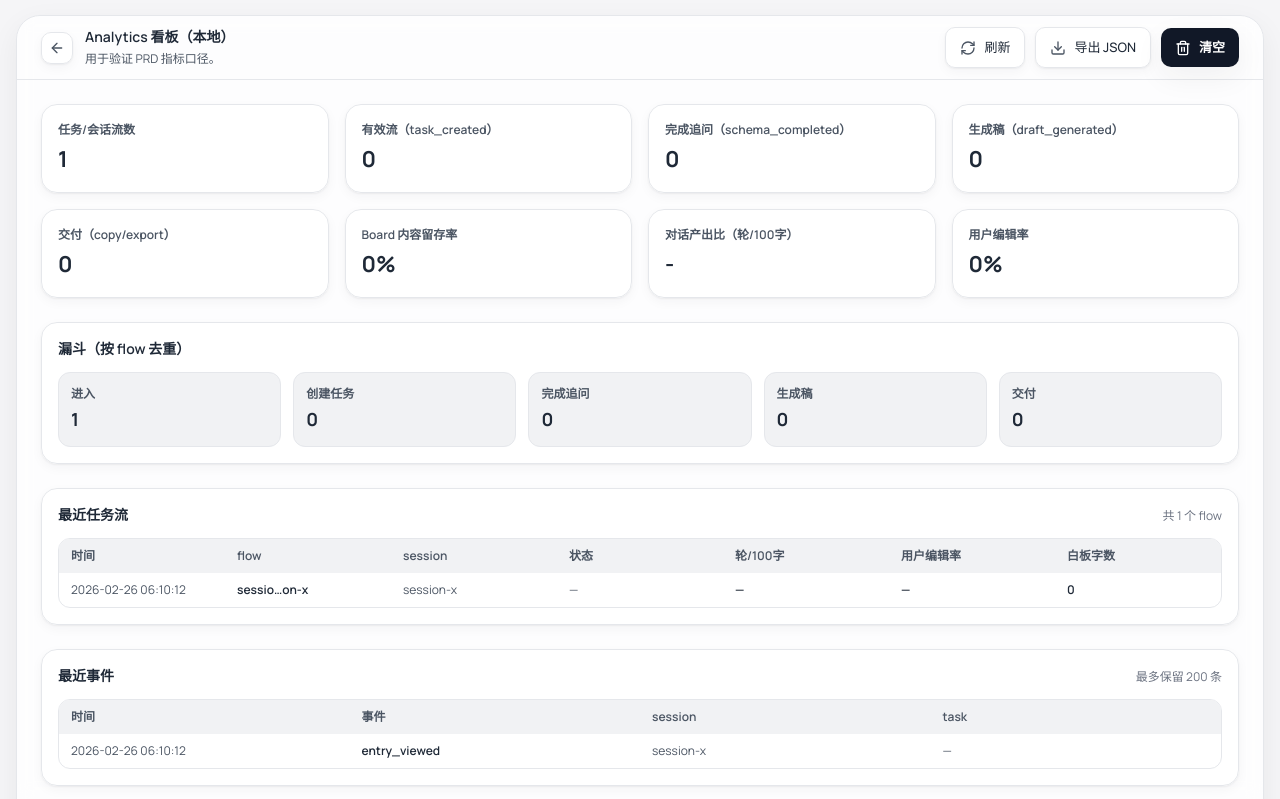
Test: AnalyticsPage › clears event log after confirmation
This screenshot has width=1280, height=799.
Click the button with aria-label "清空事件日志" at (1200,48), box 1161,28 -> 1239,67
(page scrolled)
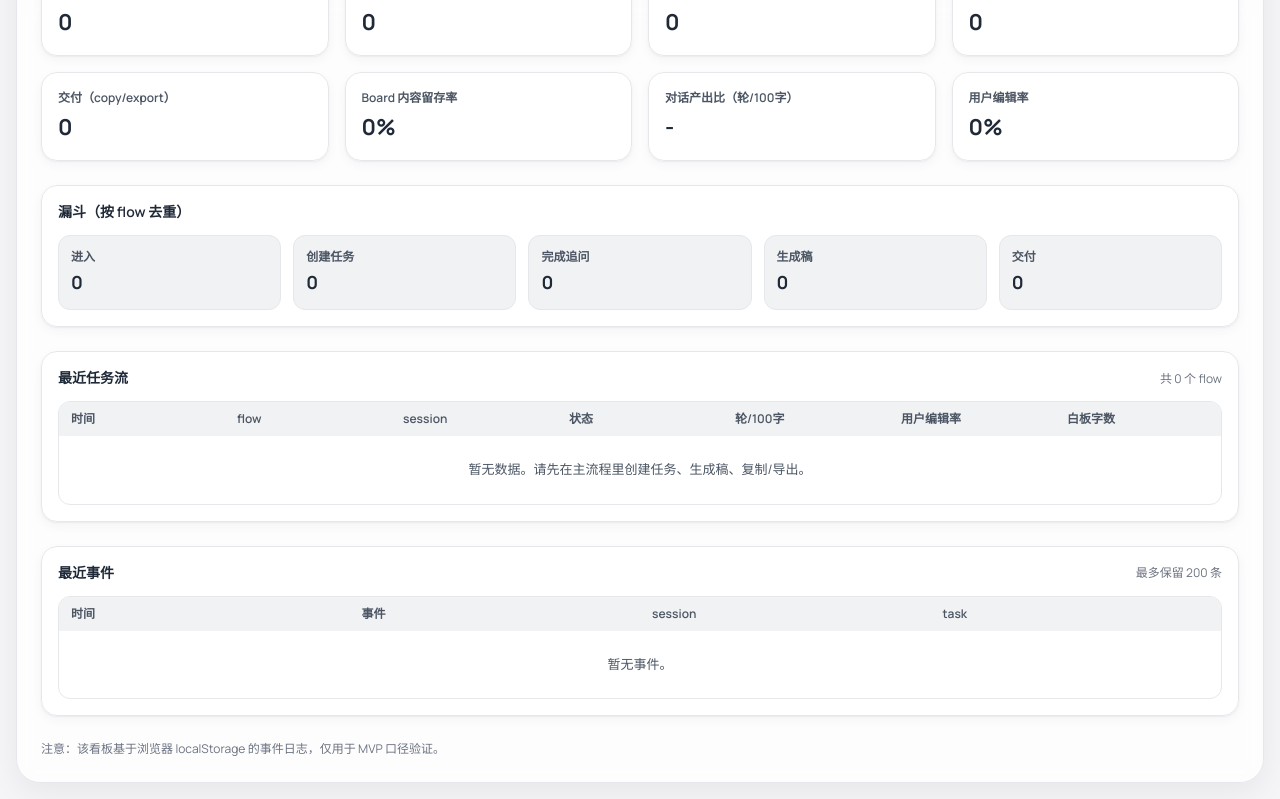
Result: the text "暂无事件。" is shown at 608,654 -> 672,672
